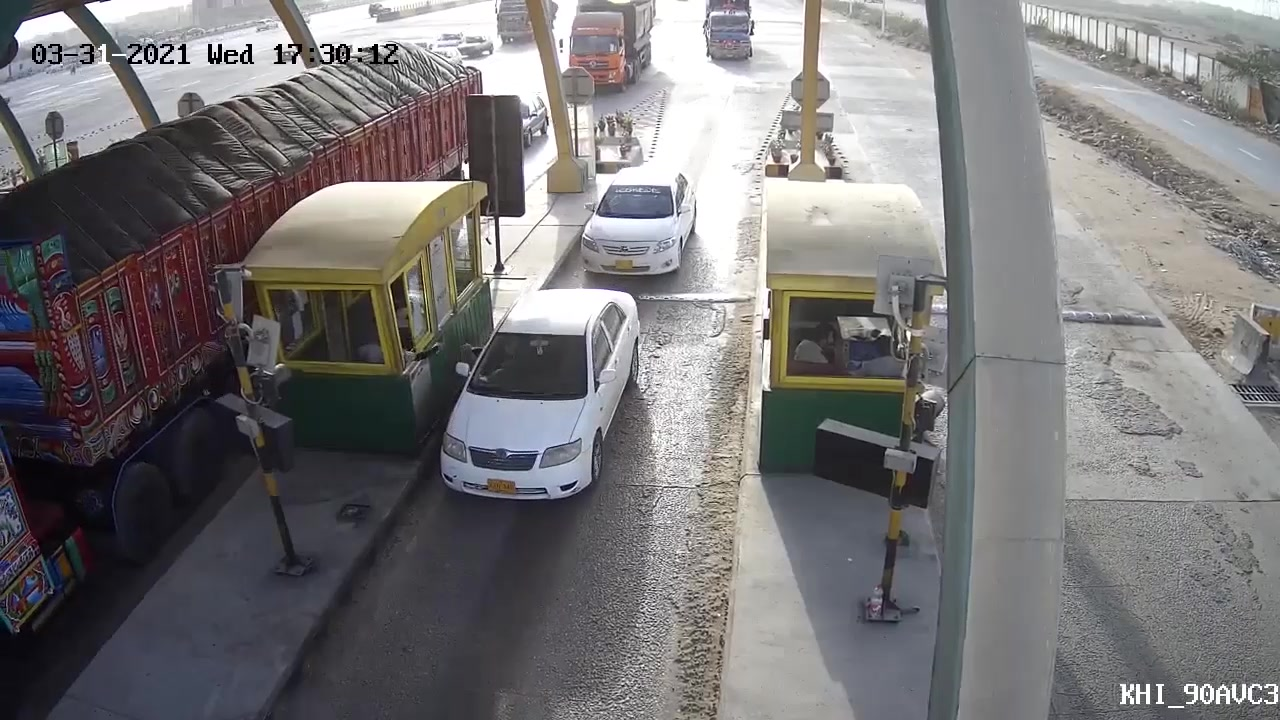F1: (439, 287, 644, 512), (564, 161, 702, 286)
